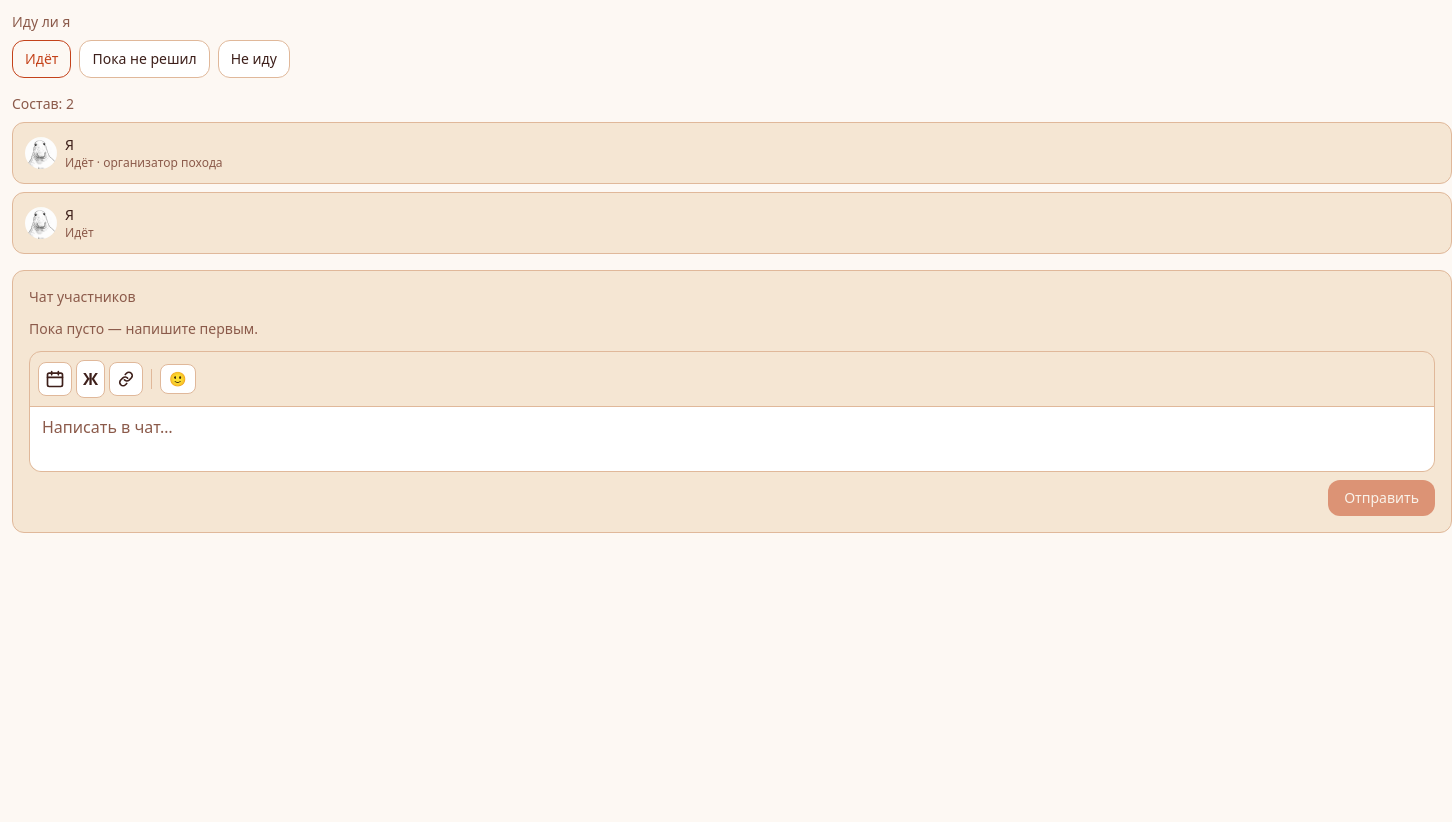
Test case: TripParticipants › сбой действия показывается, а не глотается
Step 1. Click the button with test id "my-status-declined" → (254, 59), box [218,40,290,78]
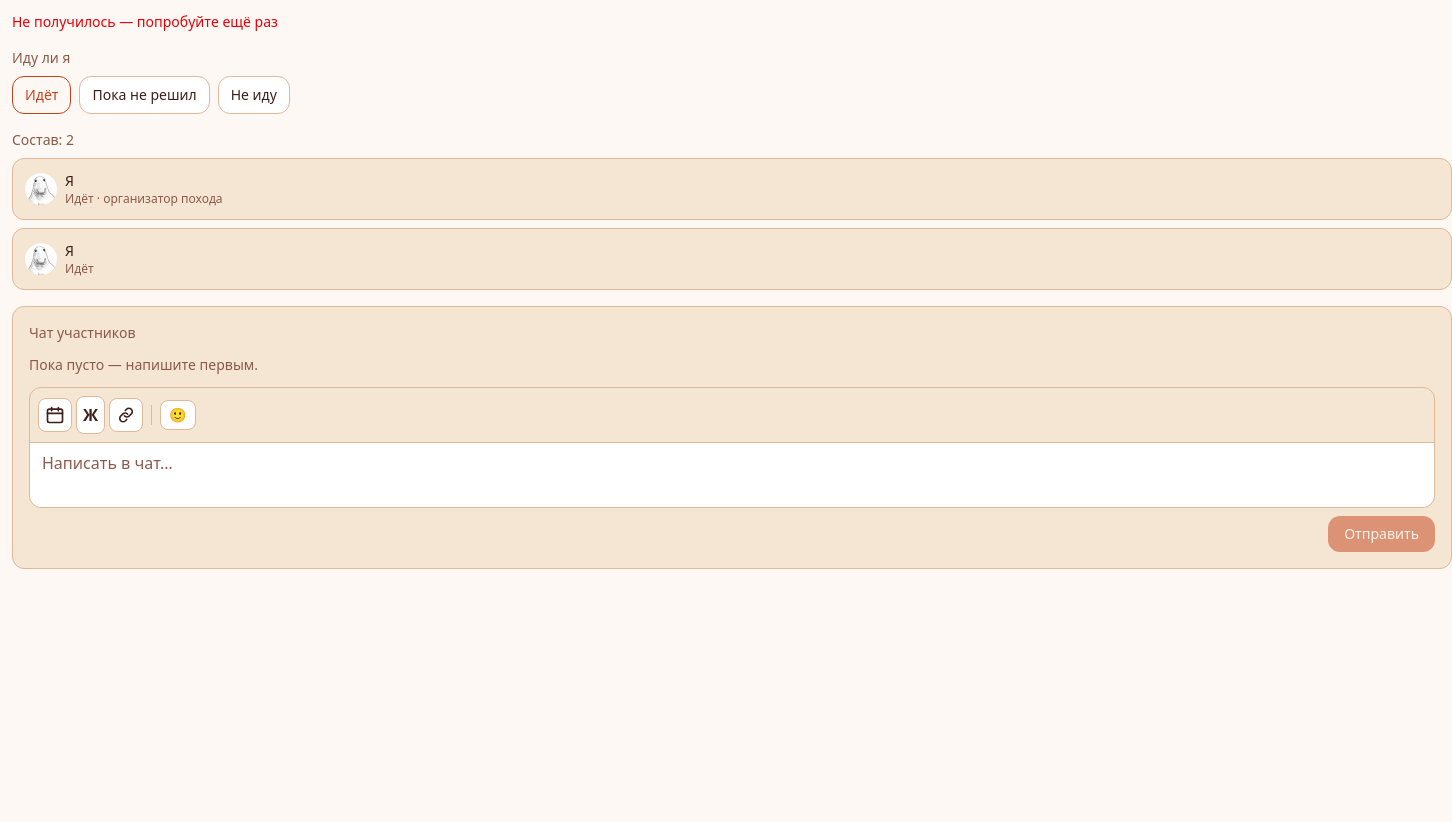
Check: the text "Не получилось — попробуйте ещё раз" is shown, box [12,12,278,31]
